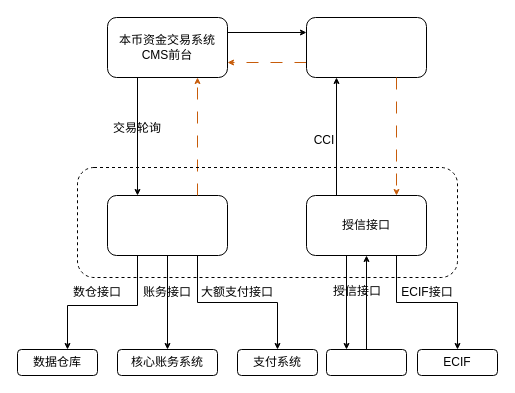
Some shapes in this 515 by 393 pixel diagram are drawn without their labels. Here are the shapes that lost their labels. From the top down, the centre of each, then its label:
At pixel 366 47: "RMS".
At pixel 167 225: "本币资金管理TBS后台".
At pixel 366 362: "授信系统".
